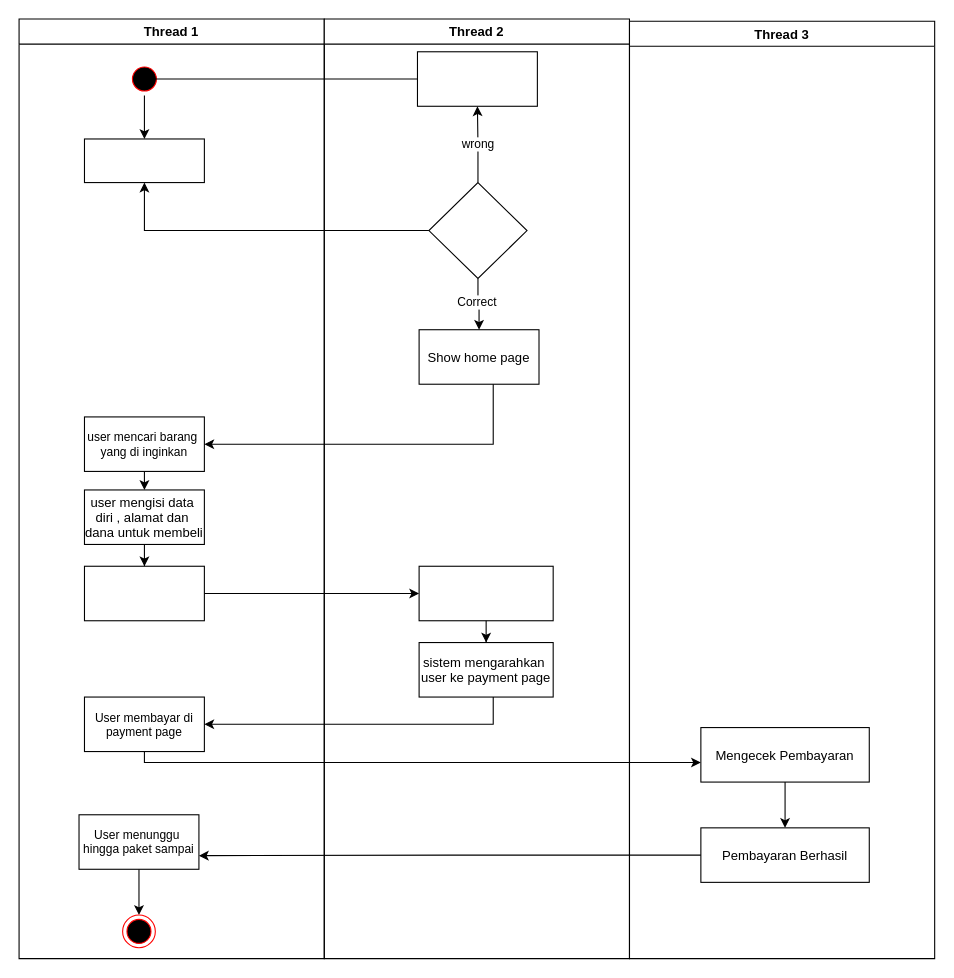
Some shapes in this 954 by 978 pixel diagram are drawn without their labels. Each missing label, with the box of its shape:
Checking username password: (428, 181, 527, 278)
Input Username dan Password: (83, 138, 204, 183)
Show login page: (416, 51, 537, 106)
Sistem mendeteksi user checkout barang: (418, 565, 553, 621)
User Checkout barang yang di inginkan: (83, 565, 204, 621)
